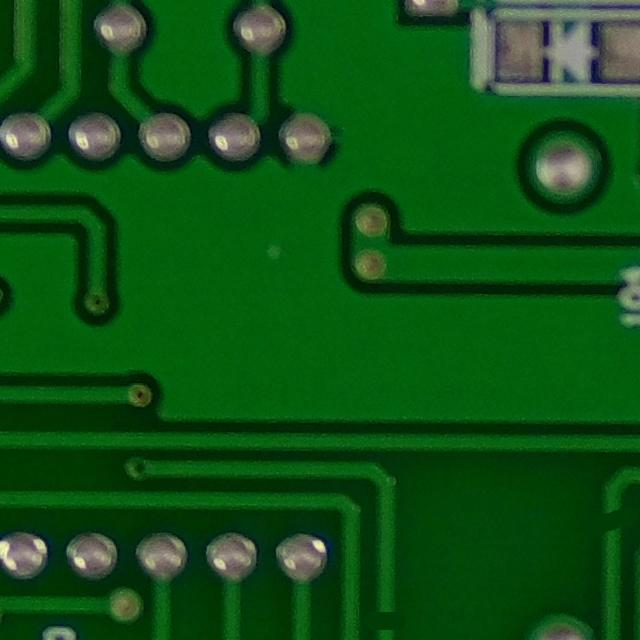open_circuit: (592, 500, 632, 543), (366, 601, 405, 640)
